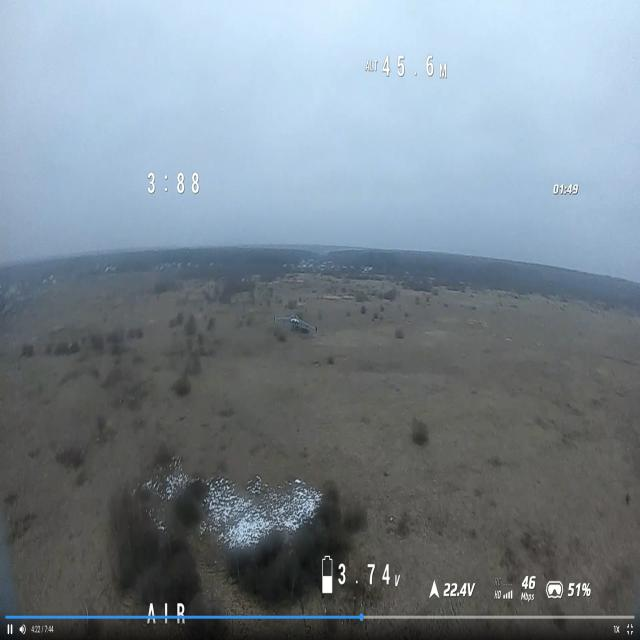planedrone: (272, 303, 318, 334)
